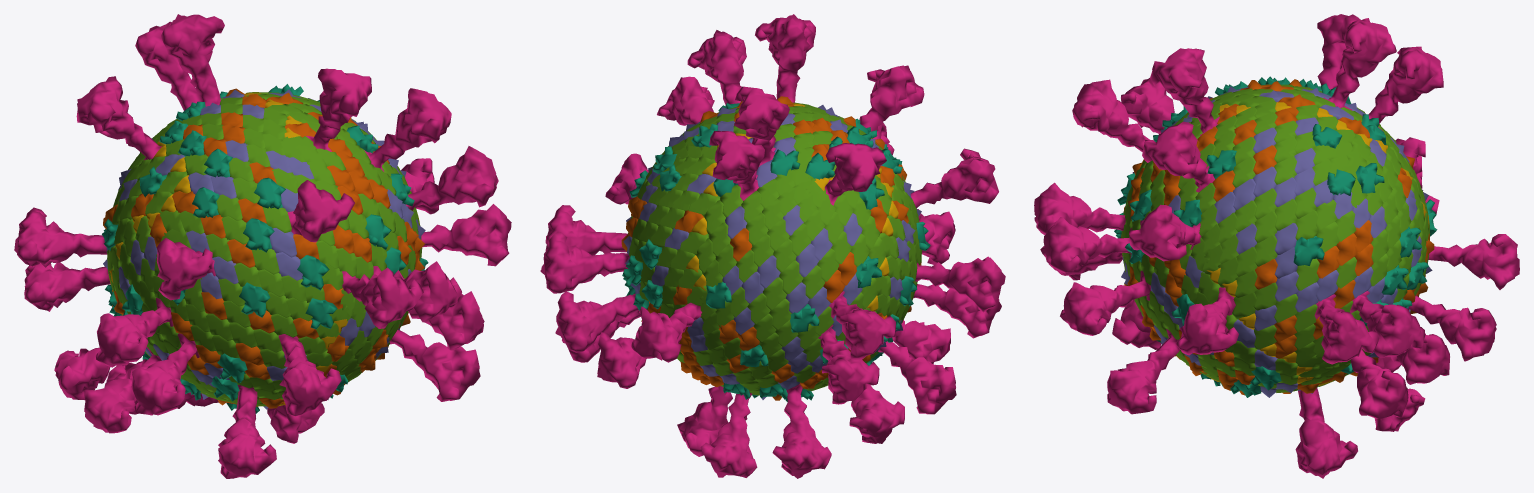
File: CELLPACK_MODEL(4).glb
3 renders of one model, left to right at view 1: azimuth 30°, elevation 25°; view 2: azimuth 150°, elevation 25°; view 3: azimuth 270°, elevation 25°, orthographic. The views are drawn at different scales.
Bounding box in the file's own units: 1368 × 1345 × 1419.
